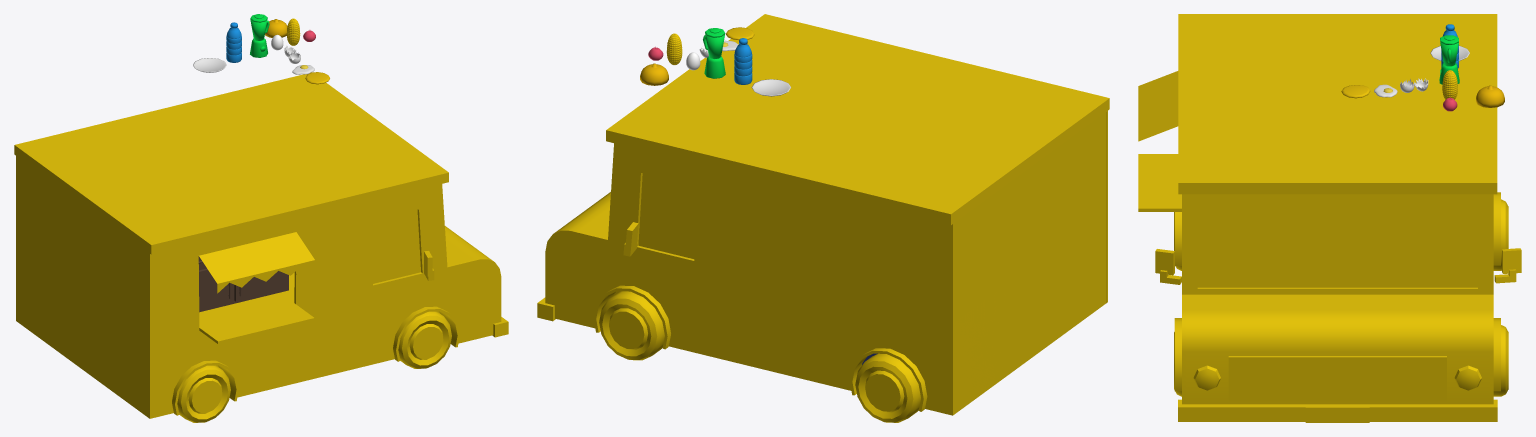
File: cuscuz.fbx
3 renders of one model, left to right at view 1: azimuth 30°, elevation 25°; view 2: azimuth 150°, elevation 25°; view 3: azimuth 270°, elevation 25°, orthographic. The views are drawn at different scales.
Visible parts, largest first — view 1: Van, Bancadas, Liquidificador, Garrafa; view 2: Van, Liquidificador, Garrafa, Prato, Cuscuz; view 3: Van, Liquidificador, Cuscuz, Milho.
Part boxes in pixels (x1,y1,x2,y2): Van: [14, 72, 508, 422]; Bancadas: [198, 256, 288, 312]; Liquidificador: [250, 14, 269, 57]; Garrafa: [226, 22, 241, 62]; Van: [537, 14, 1109, 422]; Liquidificador: [703, 28, 725, 78]; Garrafa: [734, 38, 752, 84]; Prato: [751, 79, 790, 96]; Cuscuz: [640, 63, 668, 85]; Van: [1138, 14, 1521, 422]; Liquidificador: [1439, 35, 1459, 84]; Cuscuz: [1476, 85, 1504, 107]; Milho: [1442, 70, 1457, 99].
Size of the model in its own units: 1329 by 996 by 1057.
